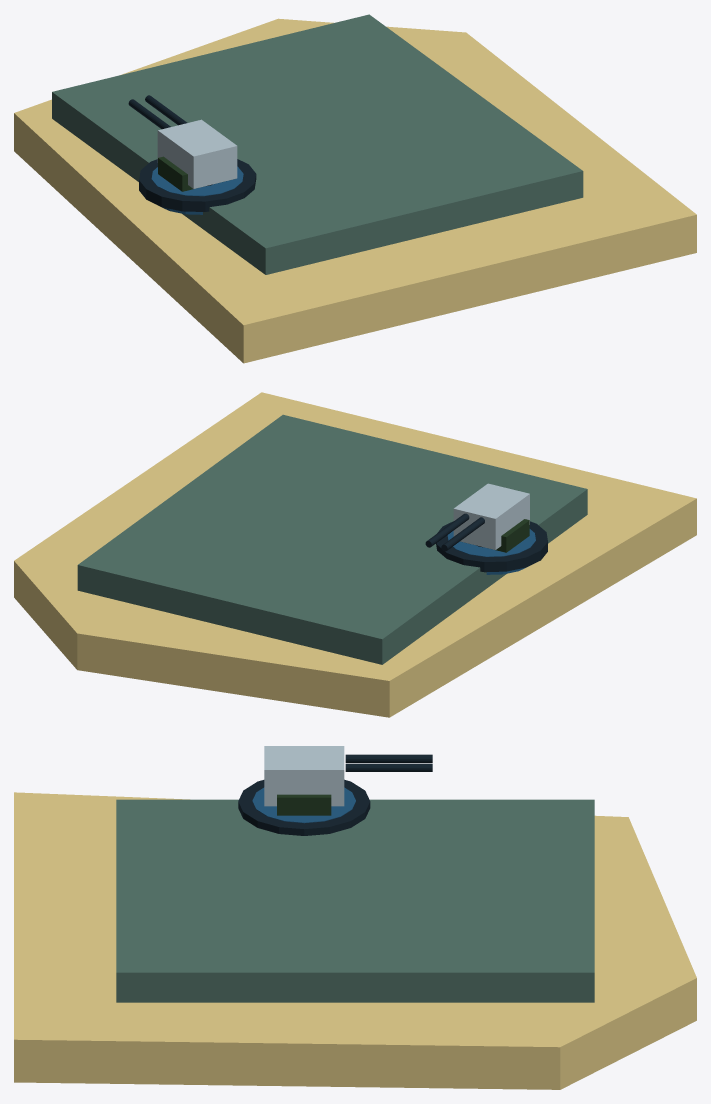
File: coastal-battery.glb
3 views of the same model, one above another, from view 1: azimuth 30°, elevation 25°; view 2: azimuth 150°, elevation 25°; view 3: azimuth 270°, elevation 25° (orthographic). The views are drawn at different scales.
Visible parts, largest first — view 1: coastal-battery-coastal-battery-geometry, coastal-battery-turret_aa_aa-port.006-geometry, coastal-battery-ruin_aa-port.005-geometry, coastal-battery-part_aa-port.006-geometry; view 2: coastal-battery-coastal-battery-geometry, coastal-battery-turret_aa_aa-port.006-geometry, coastal-battery-ruin_aa-port.005-geometry, coastal-battery-part_aa-port.006-geometry; view 3: coastal-battery-coastal-battery-geometry, coastal-battery-turret_aa_aa-port.006-geometry, coastal-battery-ruin_aa-port.005-geometry, coastal-battery-part_aa-port.006-geometry.
Boxes of the visible parts, x1,y1,x2,y2 form: coastal-battery-coastal-battery-geometry: [14, 14, 696, 363]; coastal-battery-turret_aa_aa-port.006-geometry: [128, 95, 237, 188]; coastal-battery-ruin_aa-port.005-geometry: [139, 156, 256, 211]; coastal-battery-part_aa-port.006-geometry: [151, 166, 243, 214]; coastal-battery-coastal-battery-geometry: [14, 392, 696, 717]; coastal-battery-turret_aa_aa-port.006-geometry: [425, 483, 529, 551]; coastal-battery-ruin_aa-port.005-geometry: [436, 519, 547, 572]; coastal-battery-part_aa-port.006-geometry: [447, 529, 535, 574]; coastal-battery-coastal-battery-geometry: [14, 792, 696, 1089]; coastal-battery-turret_aa_aa-port.006-geometry: [264, 746, 432, 806]; coastal-battery-ruin_aa-port.005-geometry: [238, 779, 370, 835]; coastal-battery-part_aa-port.006-geometry: [252, 787, 355, 823].
Bounding box in the file's own units: 2.56 × 0.575 × 2.9.
